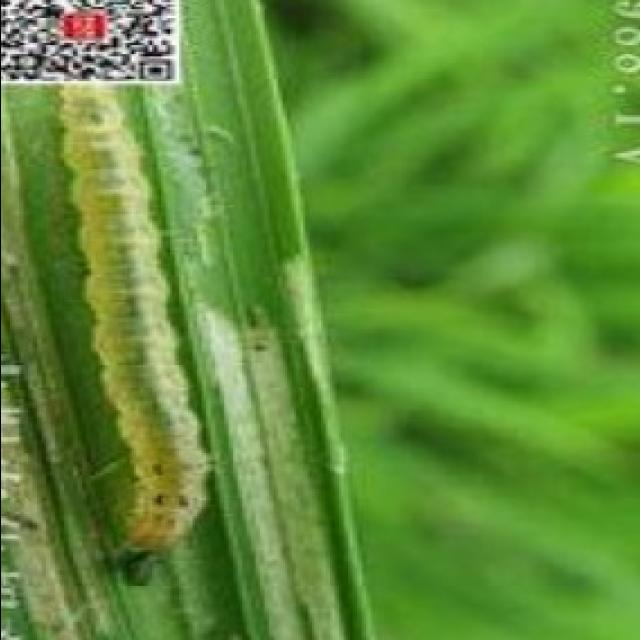rice leaf roller: (61, 86, 207, 584)
